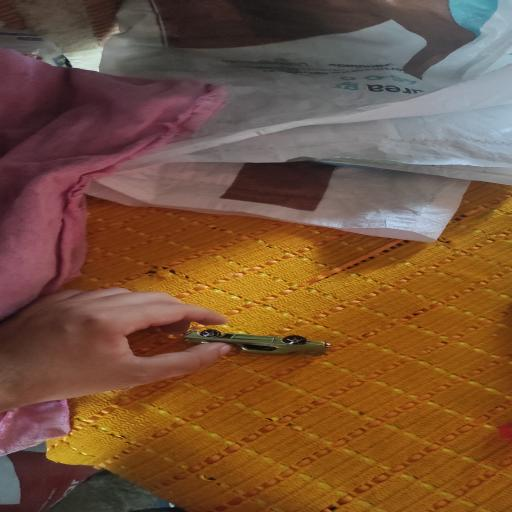Carrito: (183, 328, 330, 356)
